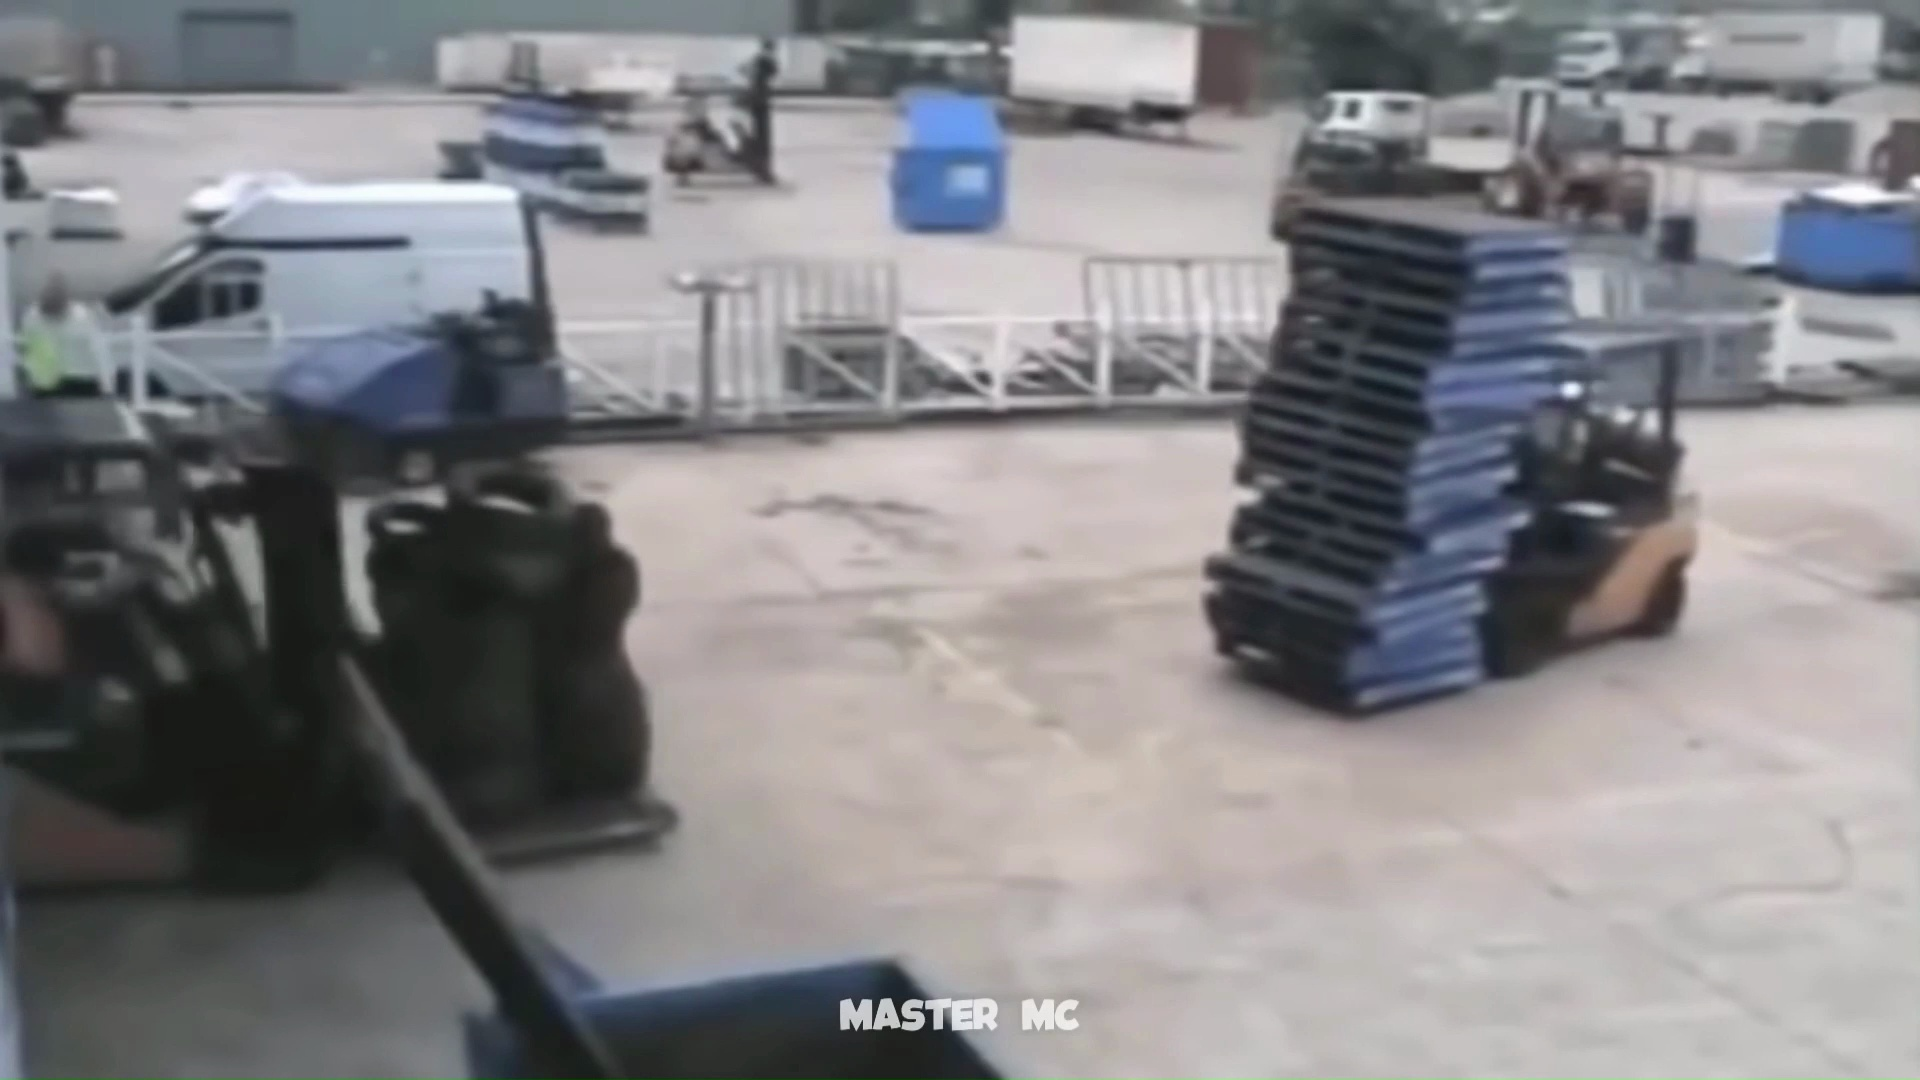forklift: (3, 396, 694, 874), (1200, 194, 1706, 719)
